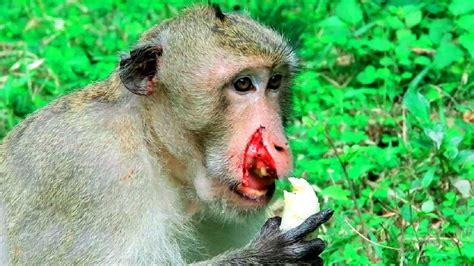monkey: (1, 7, 330, 266)
